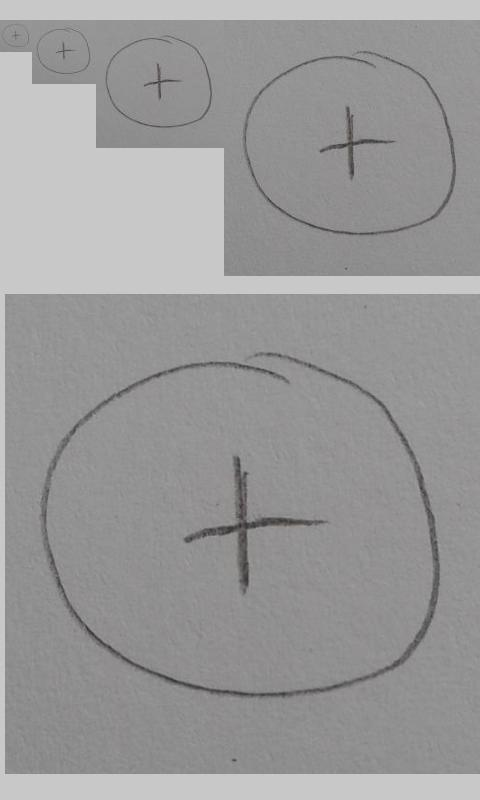button: (38, 348, 443, 702), (243, 48, 457, 236), (104, 34, 214, 129), (36, 27, 91, 75), (1, 23, 30, 48)
